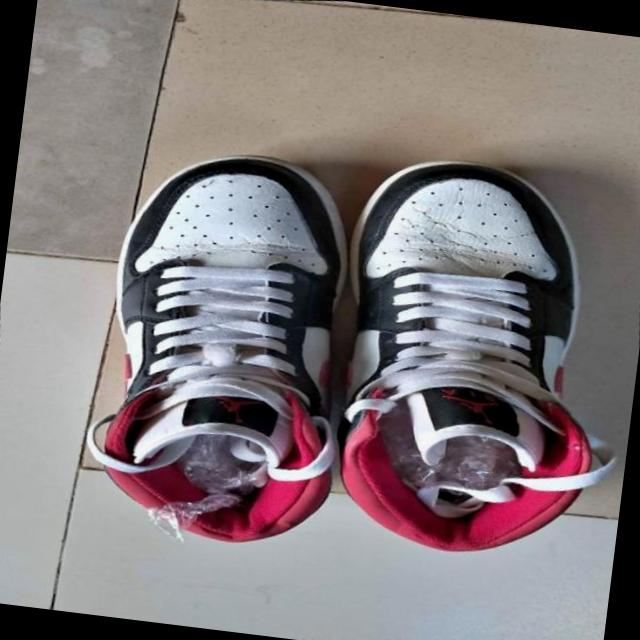nike_fake_jordan: (283, 126, 640, 585), (50, 124, 392, 568)
